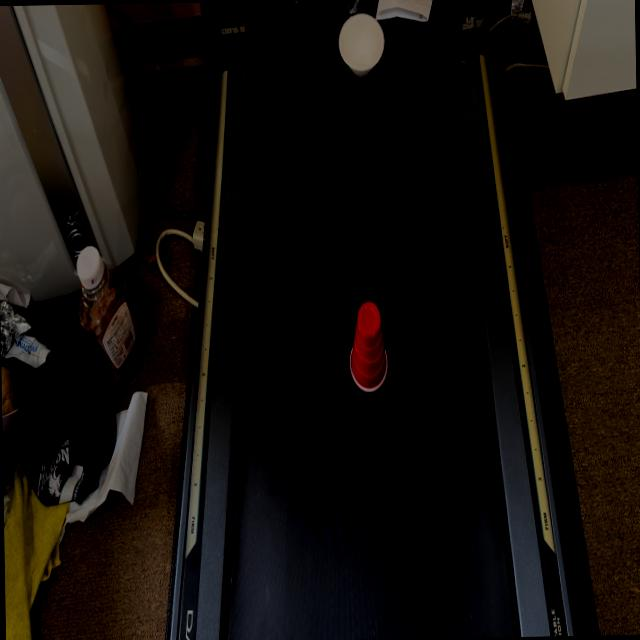Recycle: (347, 298, 389, 389), (337, 7, 386, 80)
